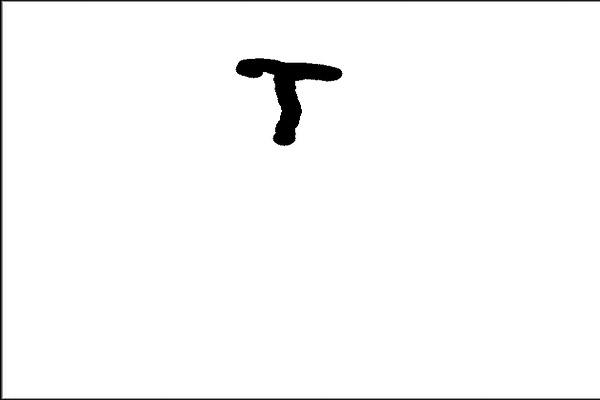T: (228, 47, 414, 194)
